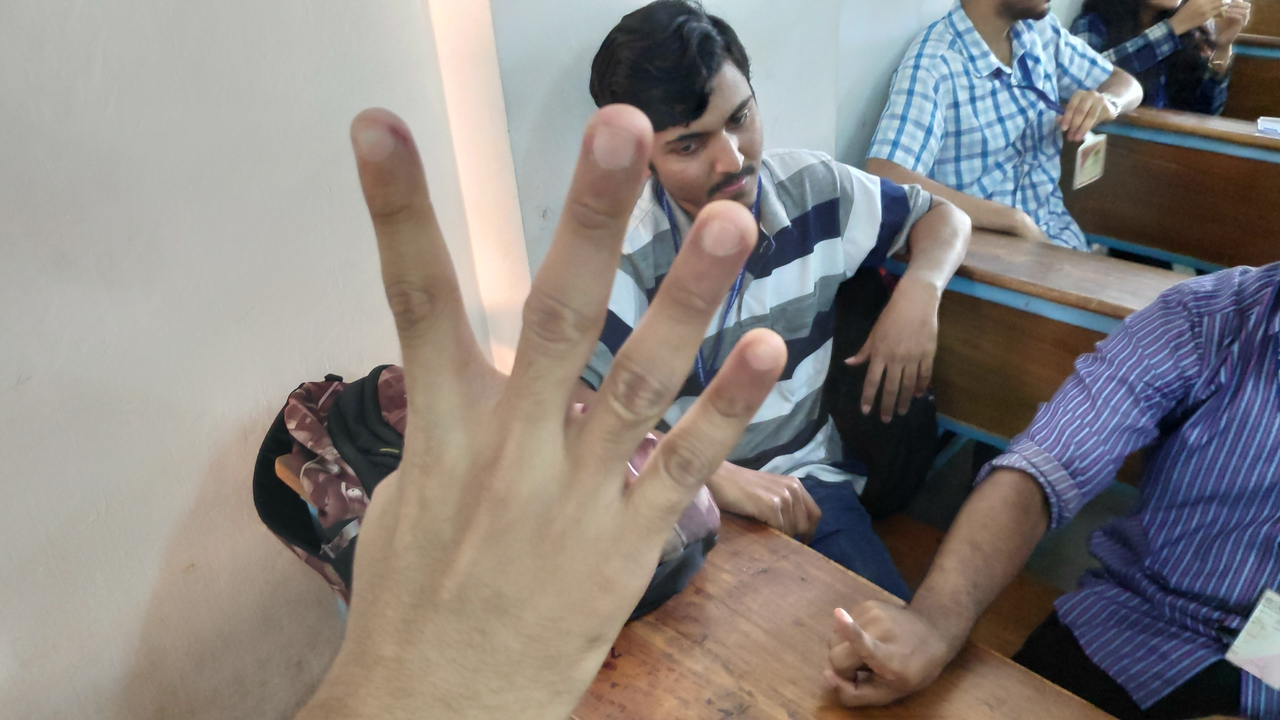fingertip: (566, 100, 654, 180), (693, 195, 765, 265), (720, 324, 794, 388), (336, 112, 410, 170)
